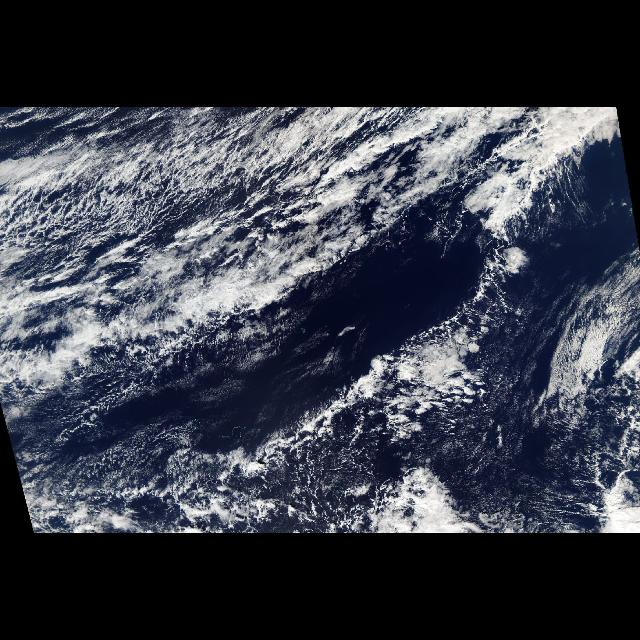Fish: (219, 229, 545, 475)
Sugar: (15, 386, 307, 502), (438, 283, 572, 532)
